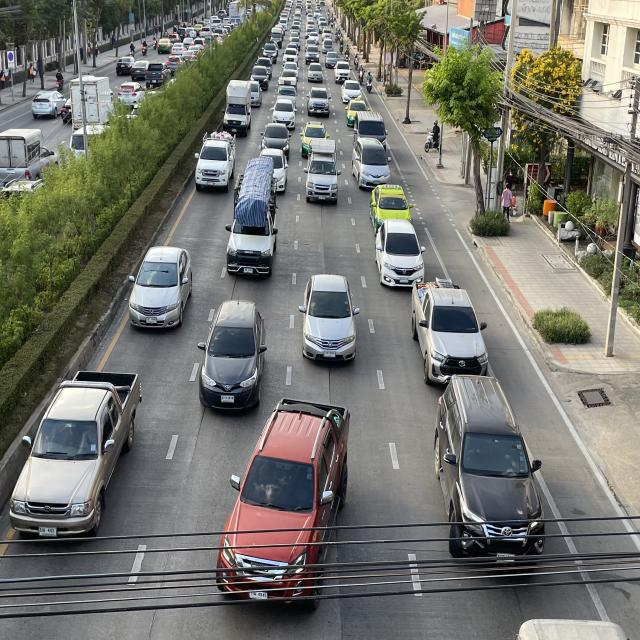car: (214, 396, 352, 612), (8, 367, 144, 550), (432, 373, 547, 574), (410, 279, 492, 387), (197, 300, 267, 409), (300, 272, 360, 366), (128, 245, 192, 332), (374, 218, 426, 289), (370, 183, 414, 235), (352, 136, 392, 191), (258, 148, 289, 194), (260, 122, 291, 159), (300, 120, 330, 158)
truck: (224, 172, 280, 278), (304, 138, 342, 206), (194, 132, 236, 192), (222, 80, 252, 136)
